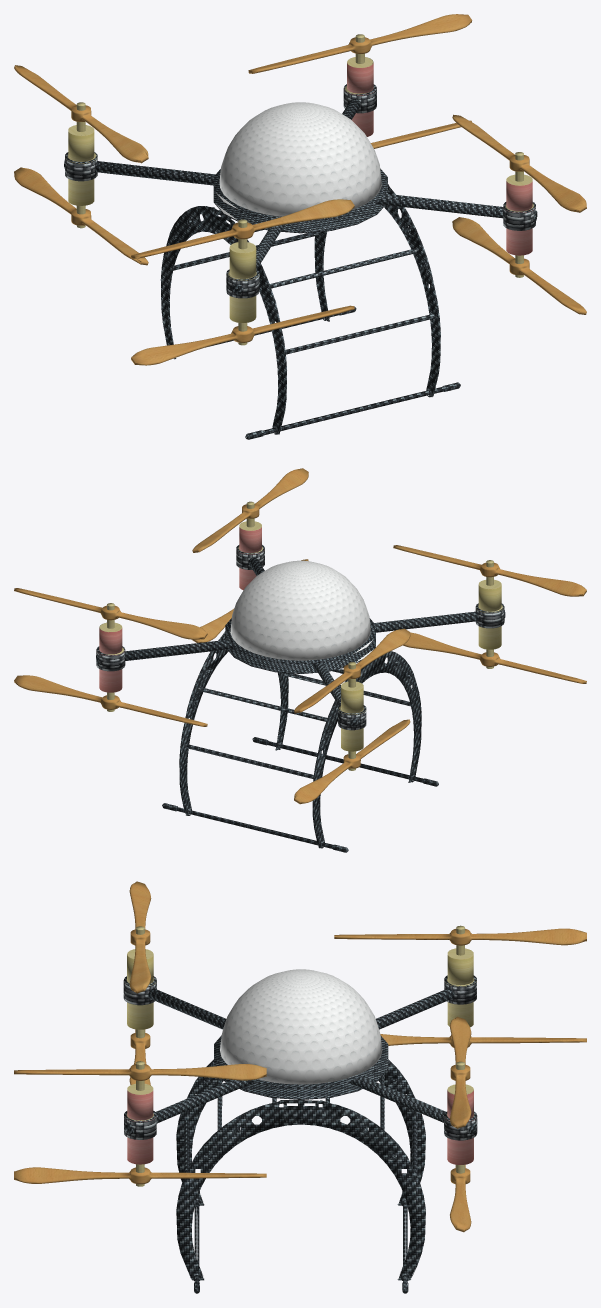
File: bonebreaker.dae
The picture shows the model from 3 angles, top to bottom: view 1: azimuth 30°, elevation 25°; view 2: azimuth 150°, elevation 25°; view 3: azimuth 270°, elevation 25°; orthographic projection. The views are drawn at different scales.
Visible parts, largest first — view 1: Dome, Base, Arm2, Rotor_RearLeft, Rotor_RearRight, Rotor_FrontRight, Blade_RearRight, Blade_RearRight_Bottom, Blade_FrontLeft, Rotor_FrontLeft, Blade_FrontRight_Bottom, Blade_RearLeft (+6 smaller); view 2: Dome, Base, Arm1, Rotor_RearRight, Rotor_FrontLeft, Rotor_RearLeft, Blade_FrontLeft, Blade_FrontLeft_Bottom, Blade_RearRight, Blade_RearRight_Bottom, Rotor_FrontRight, Blade_FrontRight (+6 smaller); view 3: Dome, Base, Rotor_FrontRight, Blade_FrontRight_Bottom, Blade_FrontRight, Blade_RearLeft, Arm2, Arm1, Rotor_RearLeft, Rotor_FrontLeft, Blade_RearRight, Rotor_RearRight (+5 smaller).
Boxes of the visible parts, x1,y1,x2,y2 form: Dome: (219, 102, 381, 216); Base: (160, 184, 460, 439); Arm2: (64, 160, 537, 221); Rotor_RearLeft: (65, 102, 97, 228); Rotor_RearRight: (226, 219, 259, 345); Rotor_FrontRight: (503, 152, 535, 277); Blade_RearRight: (131, 199, 354, 258); Blade_RearRight_Bottom: (131, 305, 354, 365); Blade_FrontLeft: (248, 14, 472, 73); Rotor_FrontLeft: (343, 34, 376, 136); Blade_FrontRight_Bottom: (452, 217, 586, 314); Blade_RearLeft: (14, 65, 148, 163); Dome: (230, 560, 370, 660); Base: (162, 631, 438, 852); Arm1: (96, 610, 505, 664); Rotor_RearRight: (475, 560, 504, 668); Rotor_FrontLeft: (96, 603, 125, 711); Rotor_RearLeft: (338, 662, 366, 770); Blade_FrontLeft: (14, 588, 207, 639); Blade_FrontLeft_Bottom: (14, 675, 207, 726); Blade_RearRight: (393, 545, 586, 596); Blade_RearRight_Bottom: (403, 632, 586, 683); Rotor_FrontRight: (236, 501, 264, 590); Blade_FrontRight: (192, 468, 308, 552); Dome: (220, 969, 382, 1084); Base: (176, 1059, 425, 1293); Rotor_FrontRight: (124, 1061, 156, 1186); Blade_FrontRight_Bottom: (14, 1167, 266, 1184); Blade_FrontRight: (14, 1064, 266, 1080); Blade_RearLeft: (334, 928, 586, 945); Arm2: (125, 988, 454, 1134); Arm1: (148, 988, 476, 1134); Rotor_RearLeft: (444, 925, 476, 1027); Rotor_FrontLeft: (444, 1061, 477, 1173); Blade_RearRight: (129, 881, 151, 993); Rotor_RearRight: (123, 926, 156, 1038).
Size of the model in its own units: 0.8605 by 0.8606 by 0.4427.
Materials: 1 (1 with a texture image).
